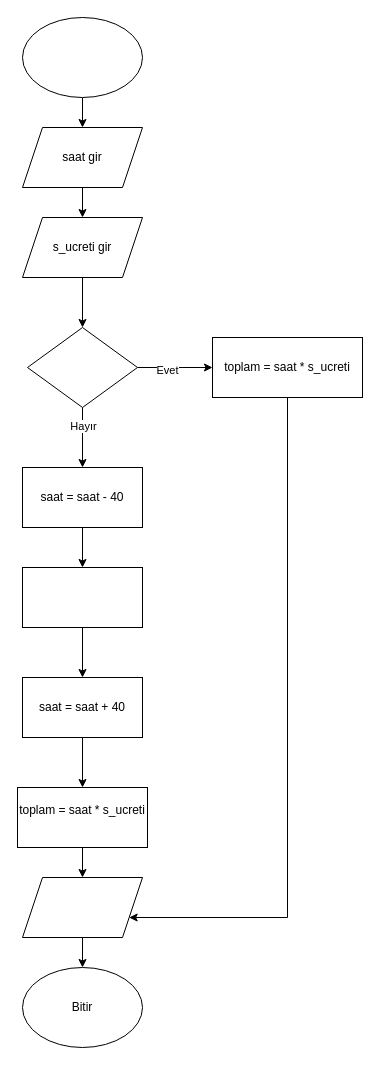
Image size: 380x1065. Some labels were removed from this diagram. Here are the shapes that lost their labels. From the top down, the centre of each, then its label:
At (82,57): "Başla".
At (82,367): "saat <= 40".
At (82,597): "saat = saat * 2".
At (82,907): "toplam Yazdır".
